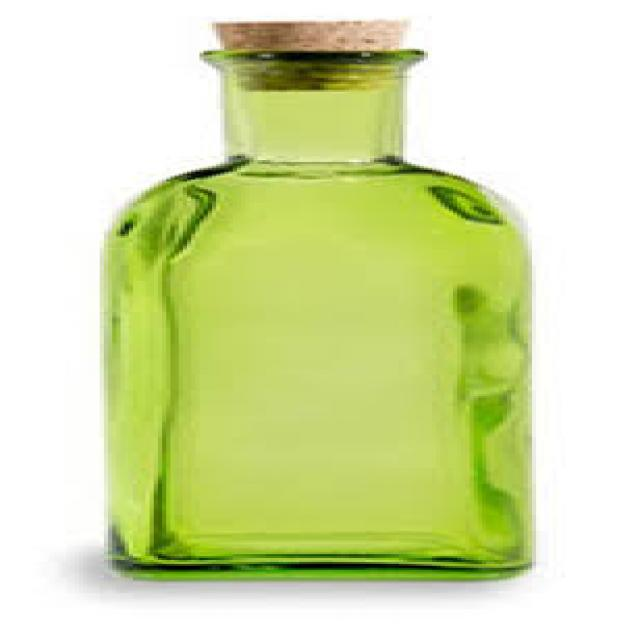Glass-Non-Biodegradable but Recyclable-: (103, 52, 539, 584)
